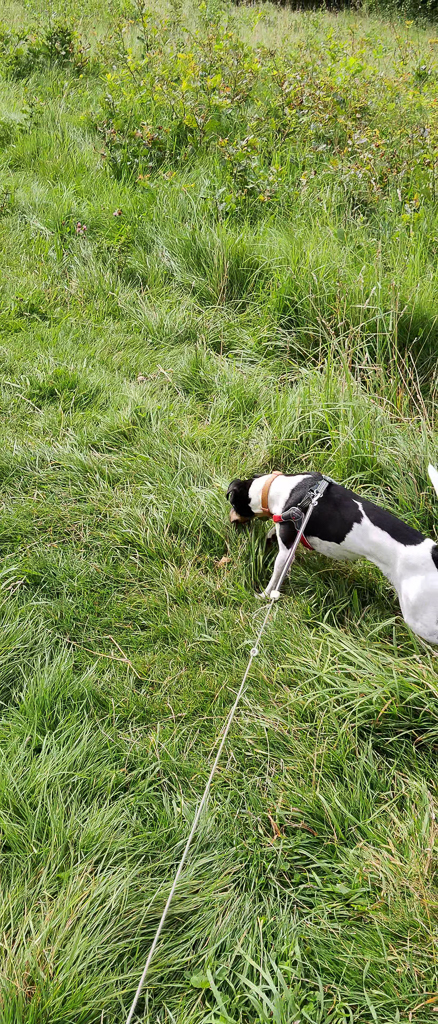Dog: (220, 452, 438, 677)
